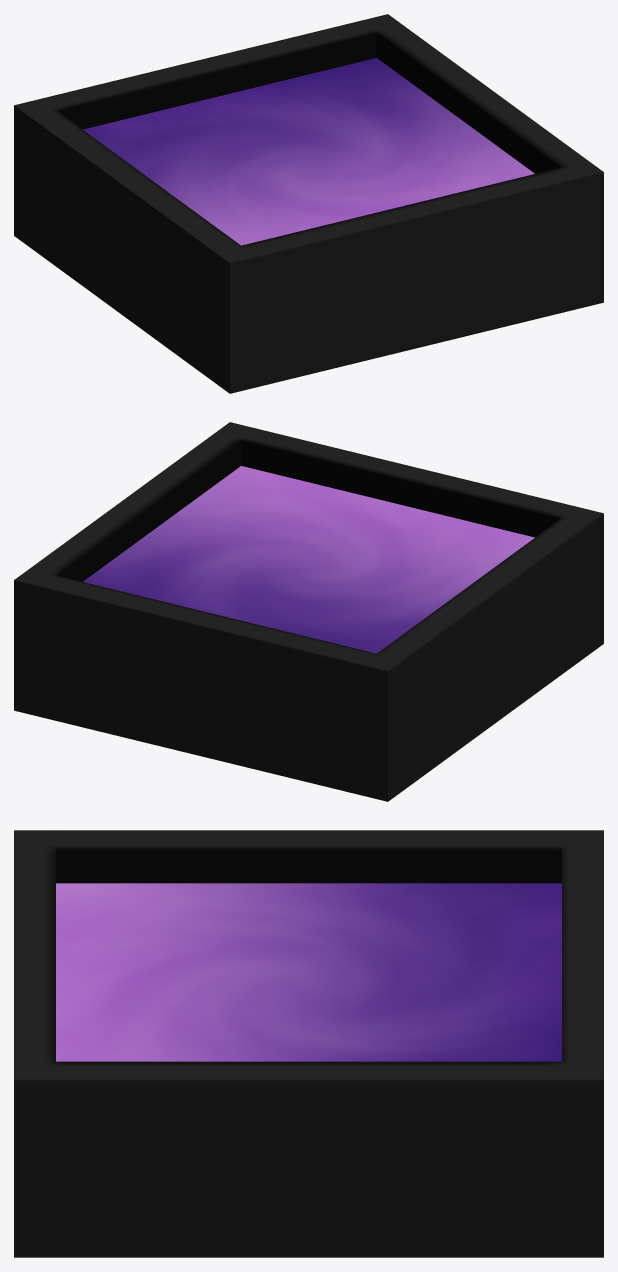
The model's file is Warp_on.fbx.
3 views of the same model, one above another, from view 1: azimuth 30°, elevation 25°; view 2: azimuth 150°, elevation 25°; view 3: azimuth 270°, elevation 25° (orthographic). The views are drawn at different scales.
Visible parts, largest first — view 1: pCube7; view 2: pCube7; view 3: pCube7.
Boxes of the visible parts, x1=… form: pCube7: x1=14, y1=14, x2=603, y2=393; pCube7: x1=14, y1=422, x2=603, y2=801; pCube7: x1=14, y1=830, x2=603, y2=1257.
Bounding box in the file's own units: 6 × 2 × 6.
Materials: 1 (1 with a texture image).
